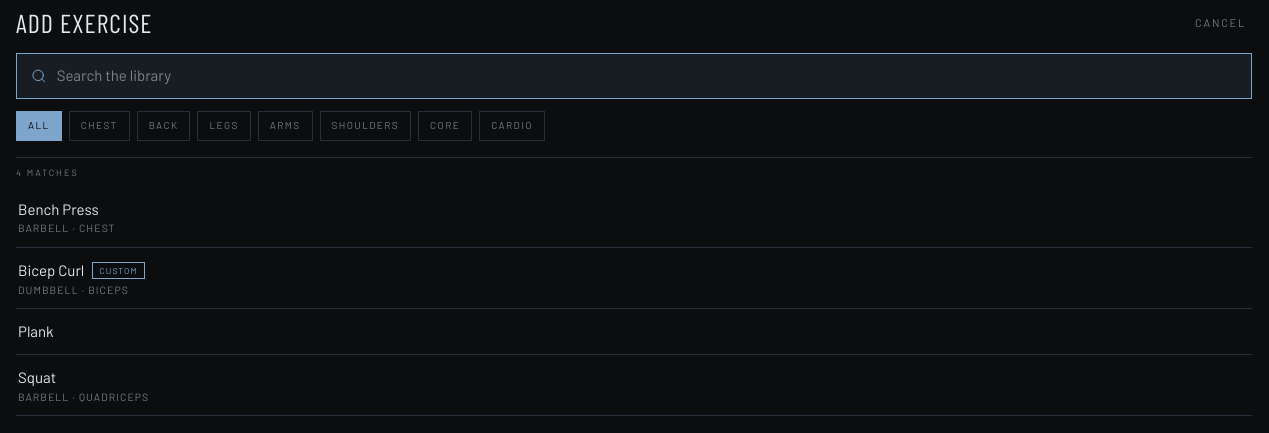
ExercisePicker › choosing an exercise › ignores further taps until the add finishes
This screenshot has width=1269, height=433.
Click the text "Squat" at (37, 377), box [18,368,56,387]
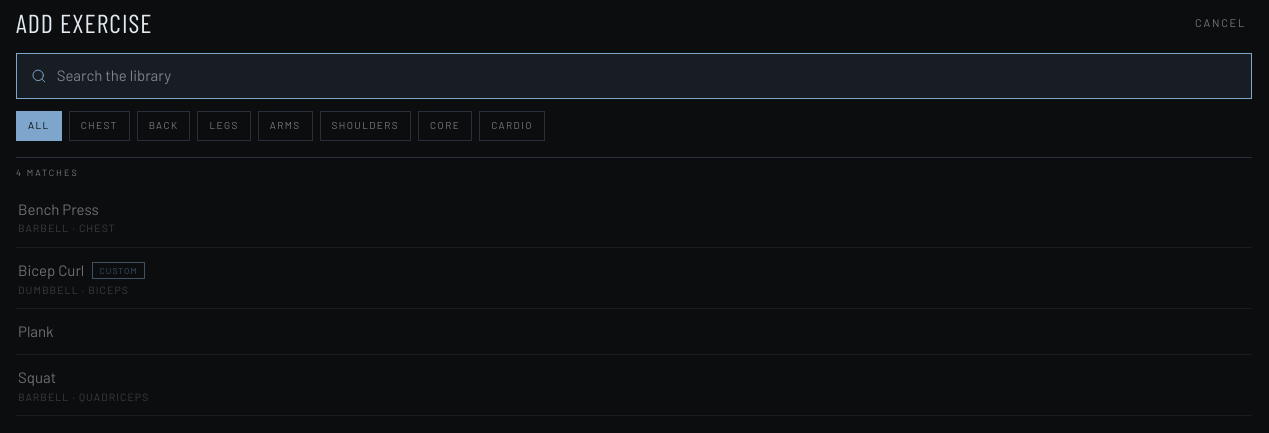
Expected: the button "Bench Press Barbell · Chest" is disabled, [16,186,1252,248]
Click the text "Bench Press" at (58, 209), box [18,200,99,218]
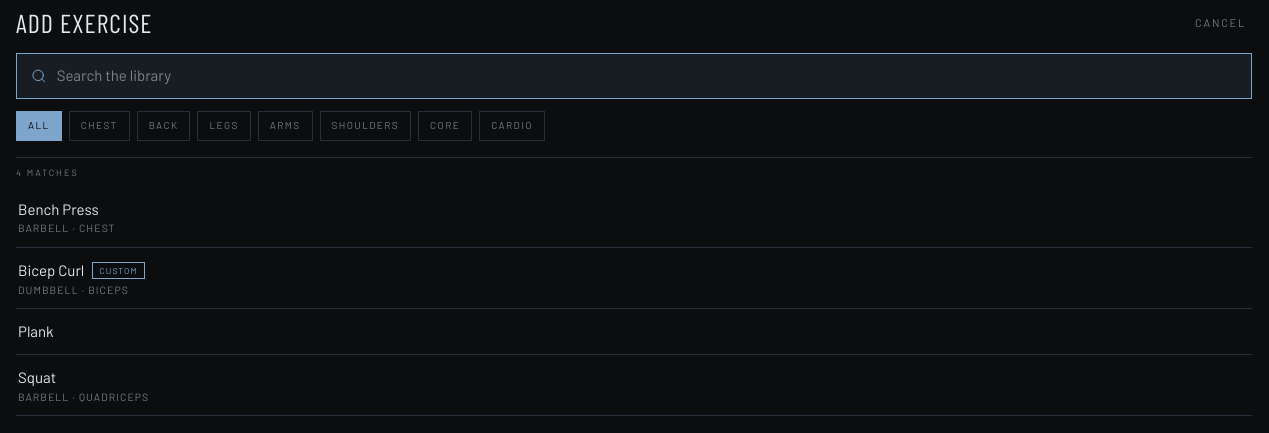
Expected: the button "Bench Press Barbell · Chest" is enabled, [16,186,1252,248]
